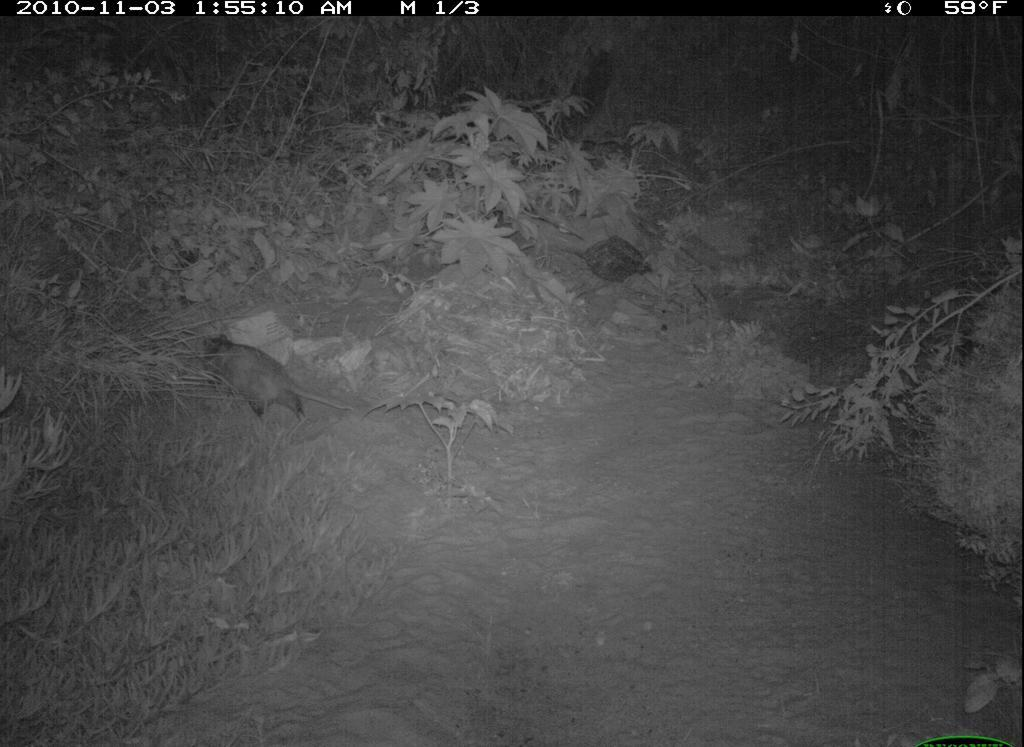opossum: (199, 332, 360, 431)
